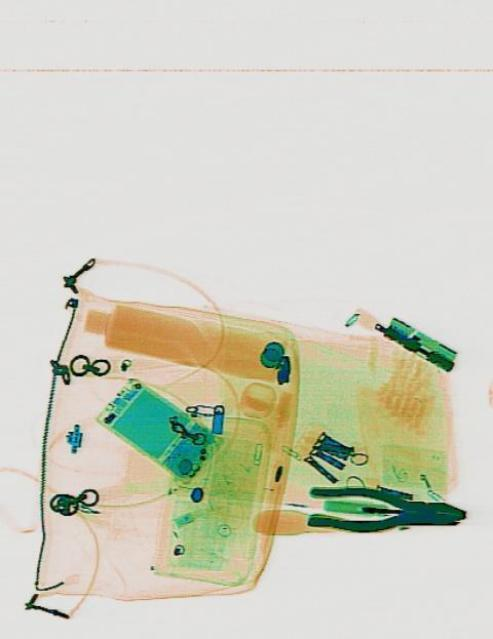Pliers: (305, 483, 465, 537)
